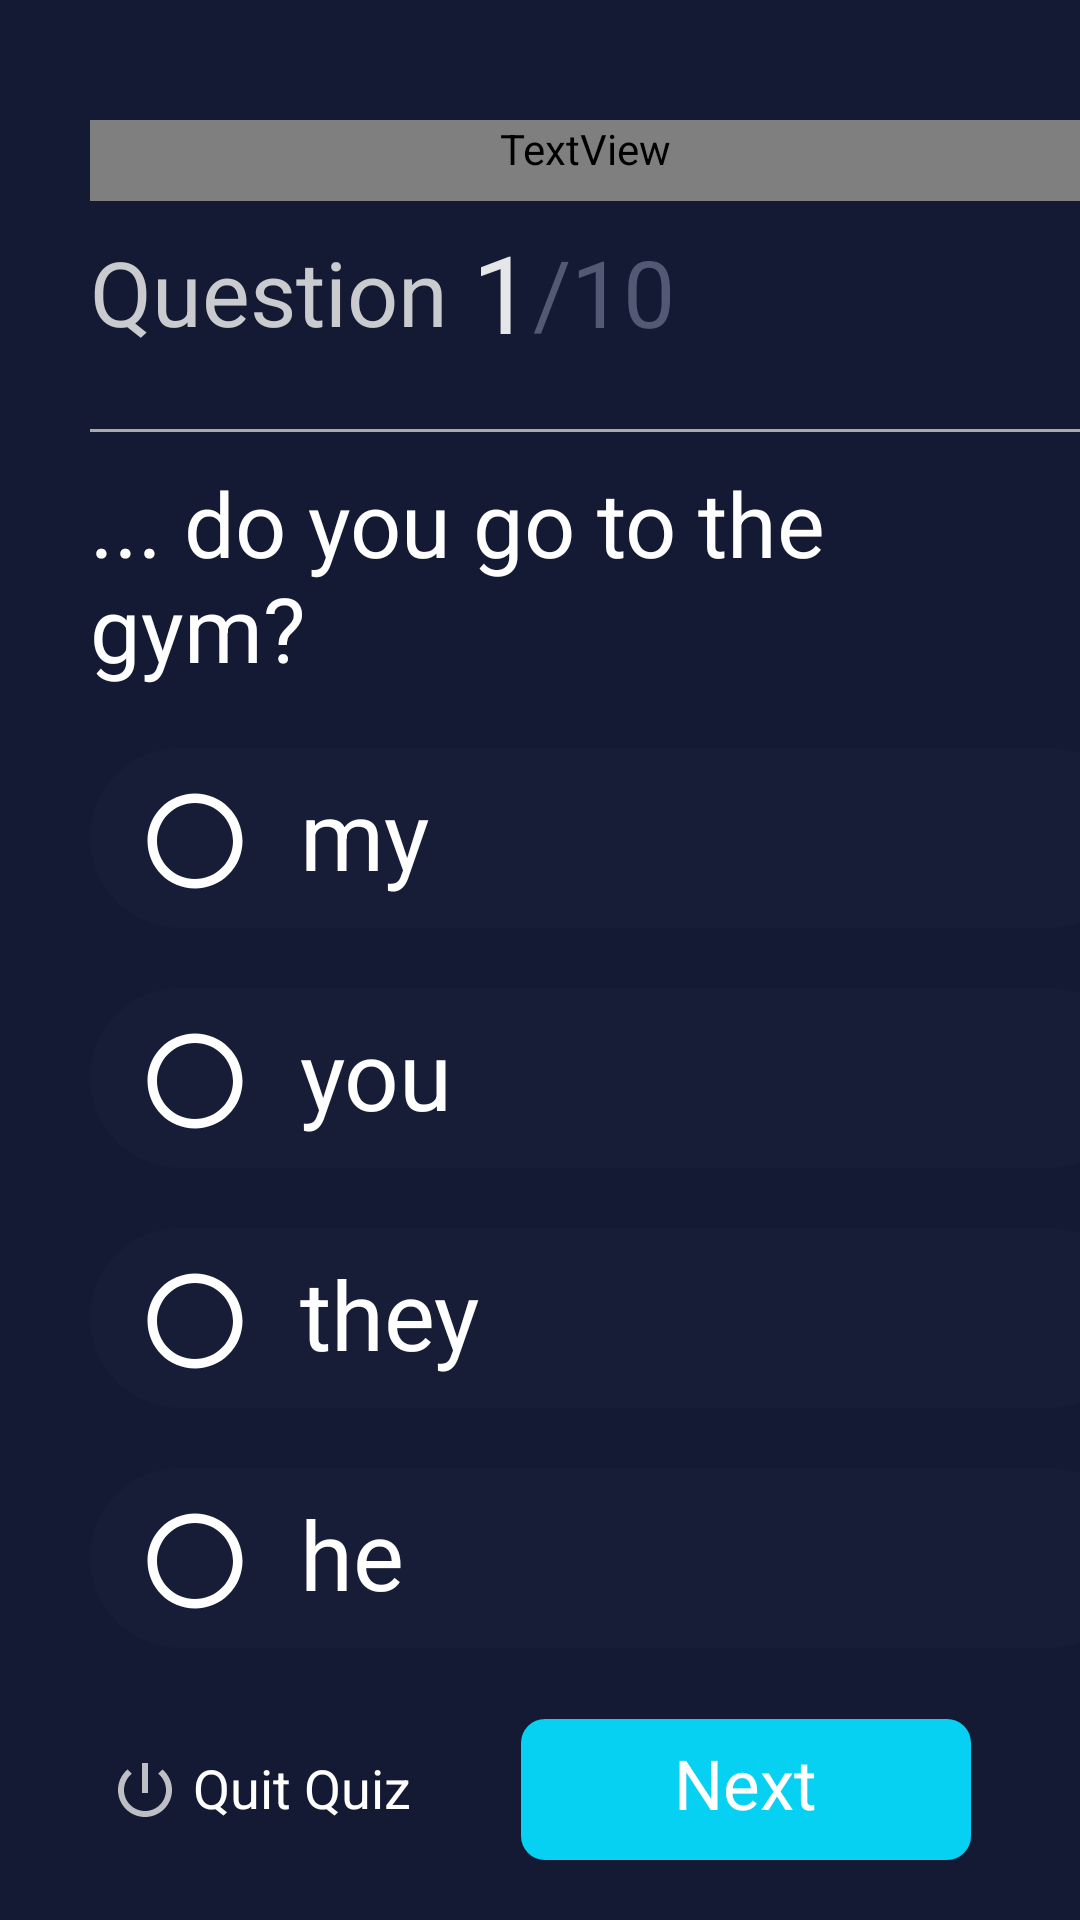

Locate icon controls on the screen. Image size 1080 x 1920, boxes as (x1, y1, x2, y2).
empty check: (147, 793, 243, 889), (147, 1033, 243, 1129), (147, 1273, 243, 1369), (147, 1513, 243, 1609)
power off: (118, 1763, 172, 1817)
